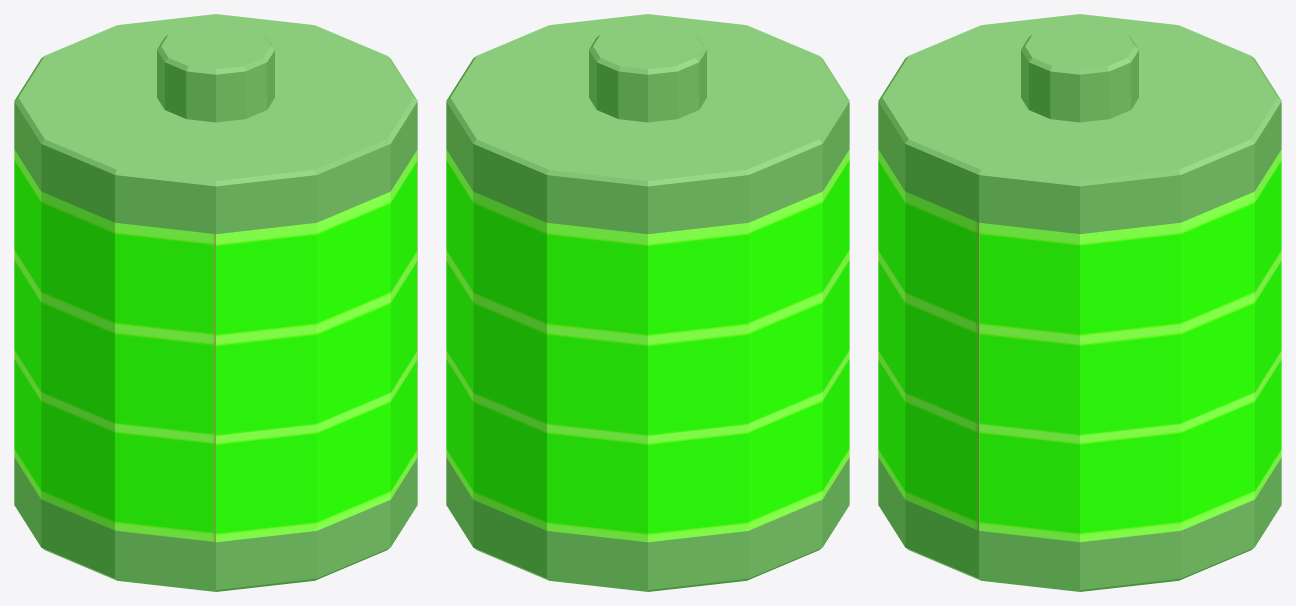
Rendered from battery_full.glb.
The picture shows the model from 3 angles, left to right: view 1: azimuth 30°, elevation 25°; view 2: azimuth 150°, elevation 25°; view 3: azimuth 270°, elevation 25°; orthographic projection.
Parts seen in each view (by area): view 1: battery low merged; view 2: battery low merged; view 3: battery low merged.
Part boxes in pixels (<box>): battery low merged: <box>14,14,417,591</box>; battery low merged: <box>446,14,849,591</box>; battery low merged: <box>878,14,1281,591</box>.
Bounding box in the file's own units: 0.7122 × 0.9 × 0.7122.
1 material, 1 textured.
